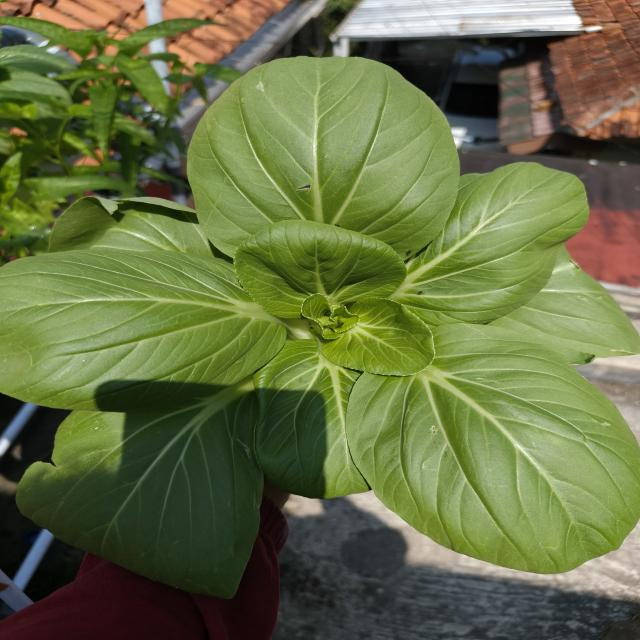daun-pakcoy: (347, 324, 640, 573), (16, 374, 262, 598), (188, 57, 459, 258), (0, 249, 285, 411), (390, 162, 589, 326), (234, 220, 434, 375), (487, 248, 640, 383), (254, 338, 369, 498), (322, 298, 435, 376)
